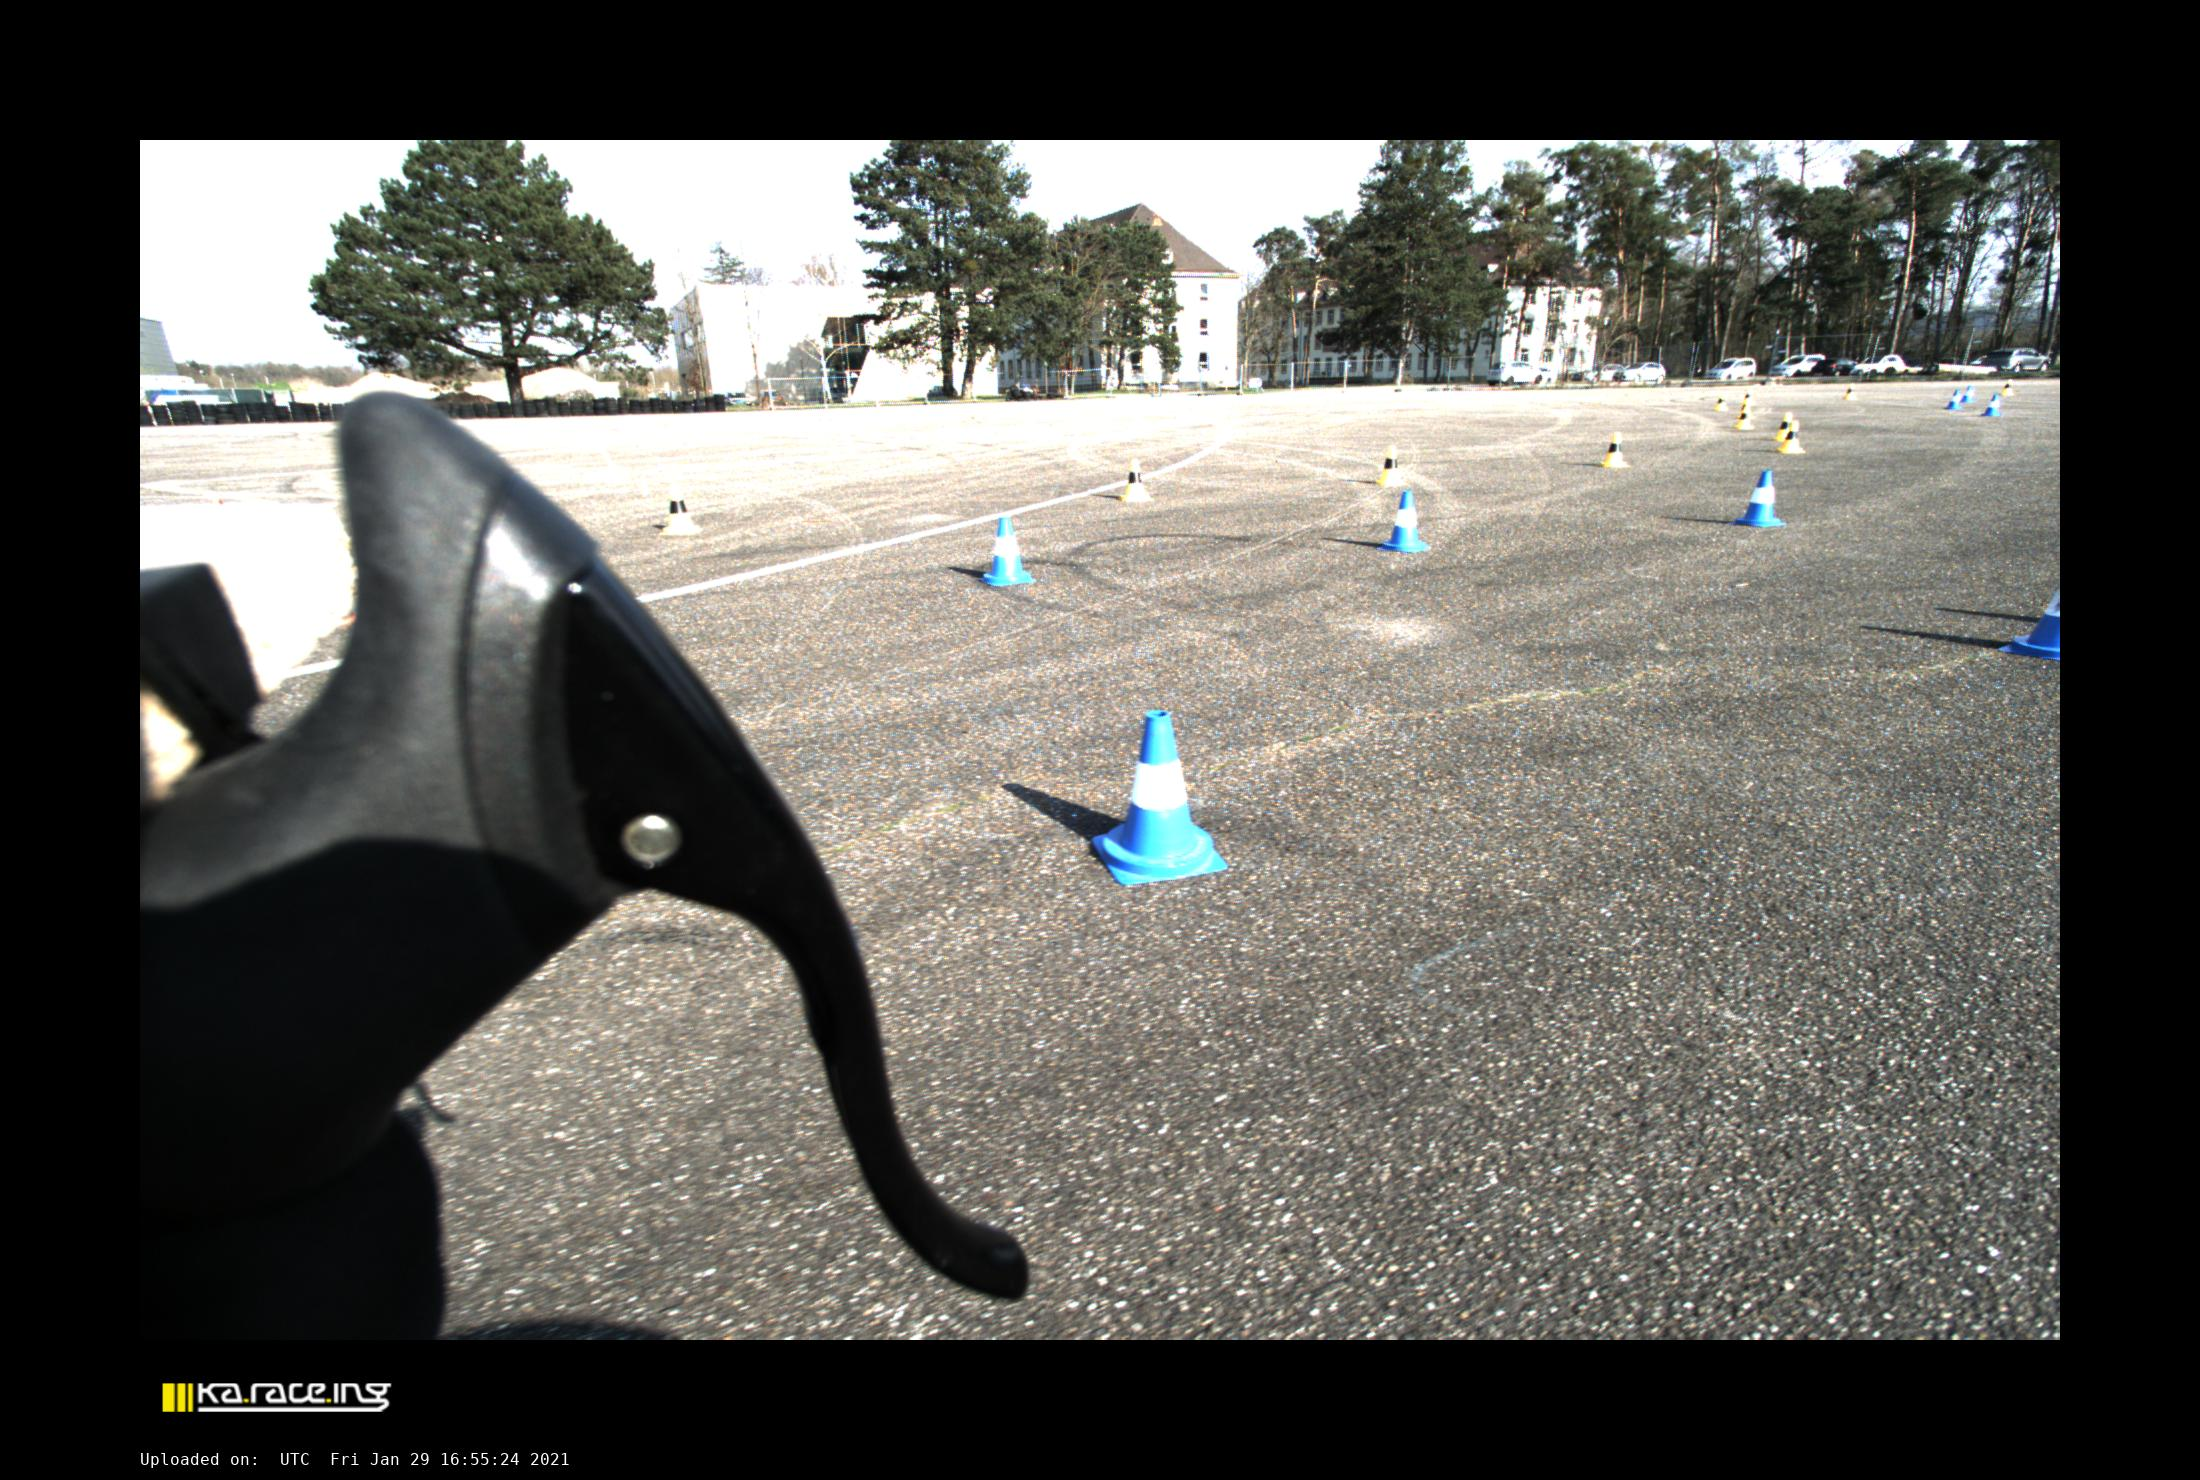blue_cone: (1092, 709, 1227, 885), (1996, 587, 2059, 660), (978, 517, 1036, 586), (1376, 491, 1430, 553), (1728, 471, 1786, 527), (1981, 393, 2002, 416), (1944, 389, 1962, 410), (1960, 385, 1974, 402)
yellow_cone: (660, 483, 703, 535), (1120, 459, 1153, 501), (1376, 446, 1404, 485), (1600, 433, 1630, 467), (1778, 420, 1806, 453), (1773, 412, 1793, 441), (1735, 408, 1755, 429), (1737, 401, 1755, 419), (1713, 394, 1729, 411), (2001, 379, 2015, 395), (1843, 386, 1857, 399), (1741, 391, 1754, 405)
